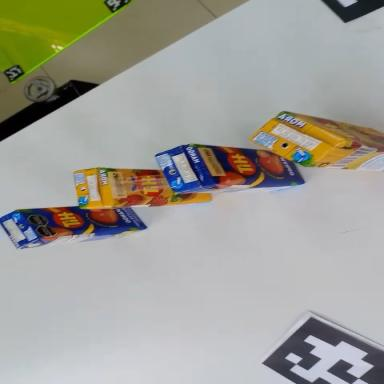HIT-MANGO: (155, 139, 304, 195), (0, 195, 147, 250)
HIT-MORA: (248, 105, 384, 181), (74, 161, 211, 210)
cara_F: (189, 144, 308, 193), (19, 198, 148, 240), (107, 163, 211, 206), (280, 111, 384, 150)
